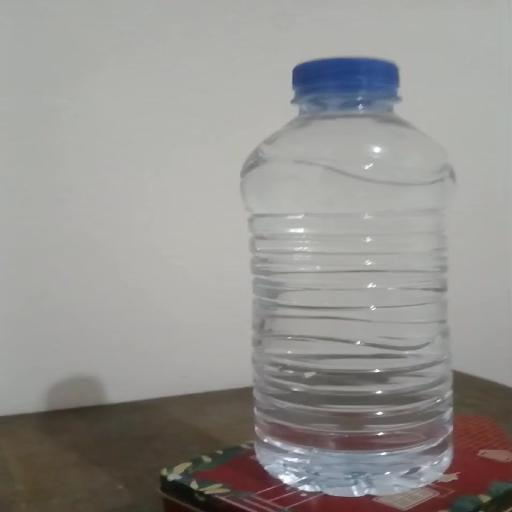bouteille non conformite: (184, 62, 512, 420), (99, 141, 512, 357)
